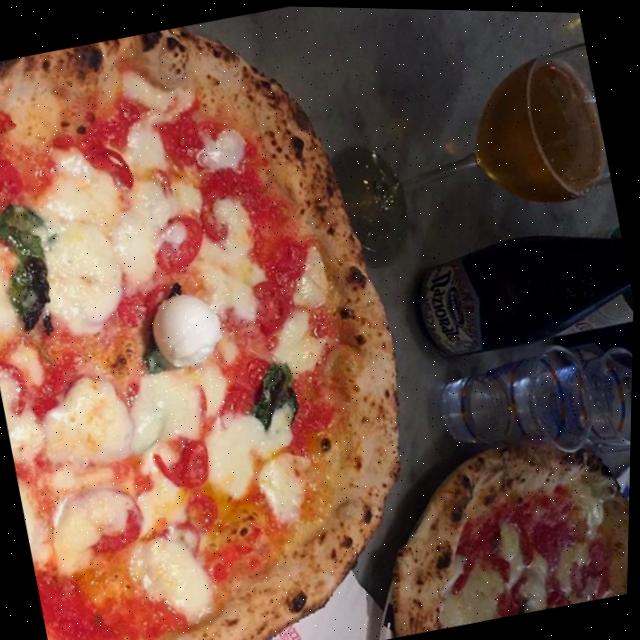basil: (0, 197, 78, 341), (128, 280, 200, 376), (243, 356, 308, 435)
pizza: (0, 0, 463, 640), (361, 411, 633, 640)
tomatoes: (83, 485, 150, 558), (148, 210, 209, 275), (84, 140, 138, 196), (175, 433, 220, 491), (248, 275, 291, 334), (0, 354, 38, 419), (0, 151, 29, 226), (156, 519, 205, 563), (196, 188, 231, 243), (184, 490, 222, 534), (219, 387, 258, 421), (116, 292, 149, 332), (241, 353, 275, 390), (142, 282, 175, 319)
